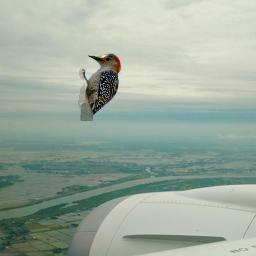Woodpecker: (78, 50, 130, 121)
